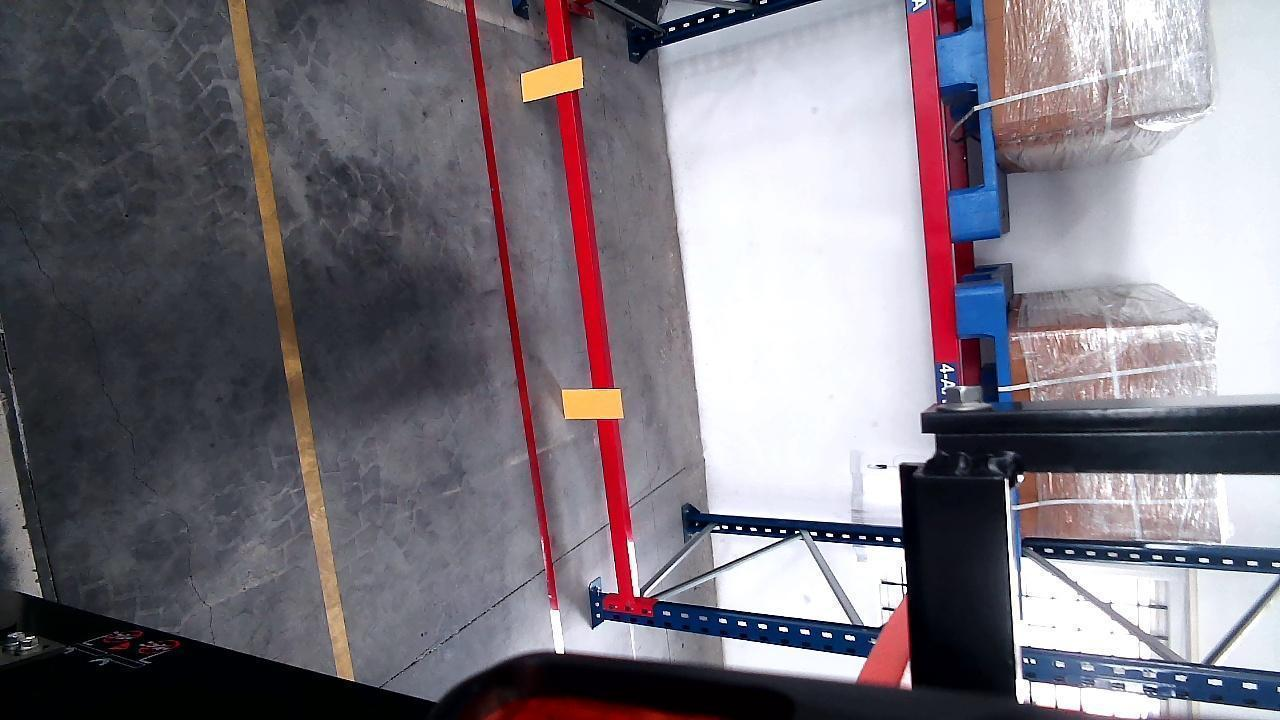red_line: (460, 5, 569, 620)
yellow_line: (225, 0, 355, 678)
